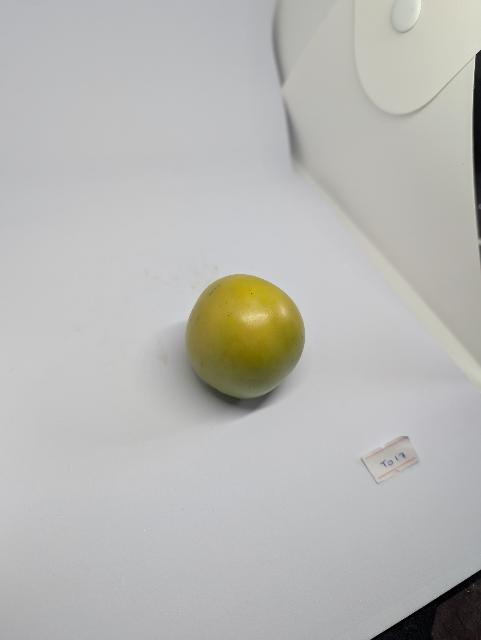breaker: (186, 274, 306, 399)
